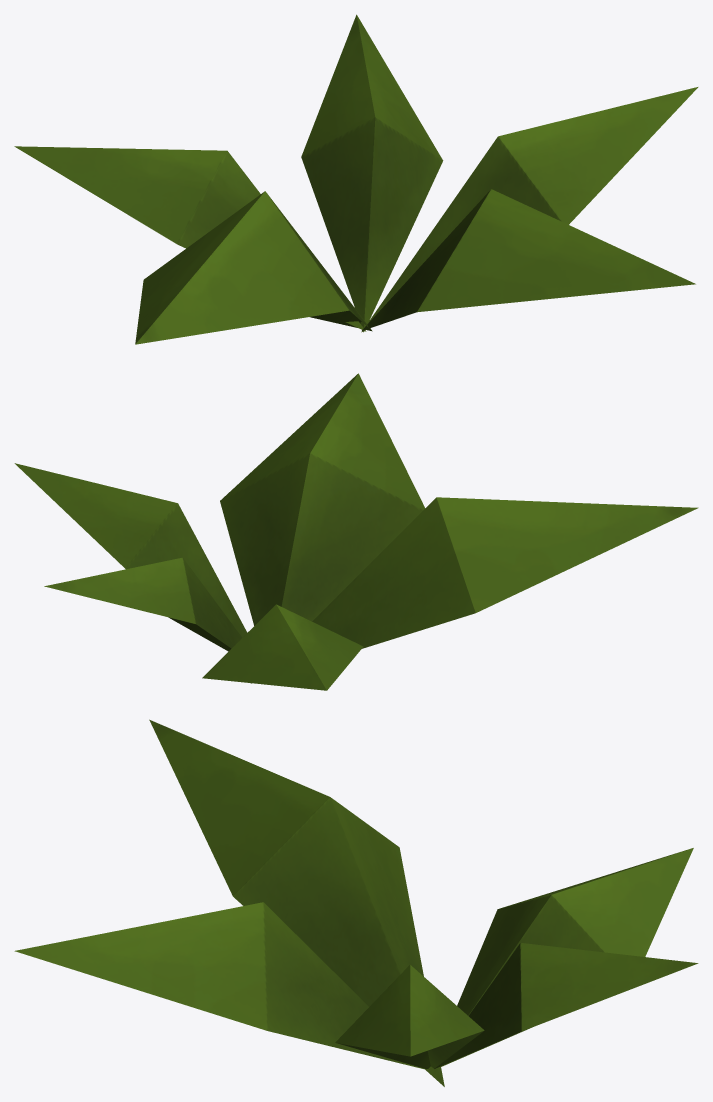
Rendered from Fern_03.FBX.
3 renders of one model, top to bottom at view 1: azimuth 30°, elevation 25°; view 2: azimuth 150°, elevation 25°; view 3: azimuth 270°, elevation 25°, orthographic. The views are drawn at different scales.
Parts seen in each view (by area): view 1: Fern_03; view 2: Fern_03; view 3: Fern_03.
Part boxes in pixels (bbox=[...]): Fern_03: bbox=[14, 14, 698, 344]; Fern_03: bbox=[14, 373, 698, 690]; Fern_03: bbox=[14, 719, 698, 1086].
Size of the model in its own units: 36.91 by 33.06 by 11.34.
